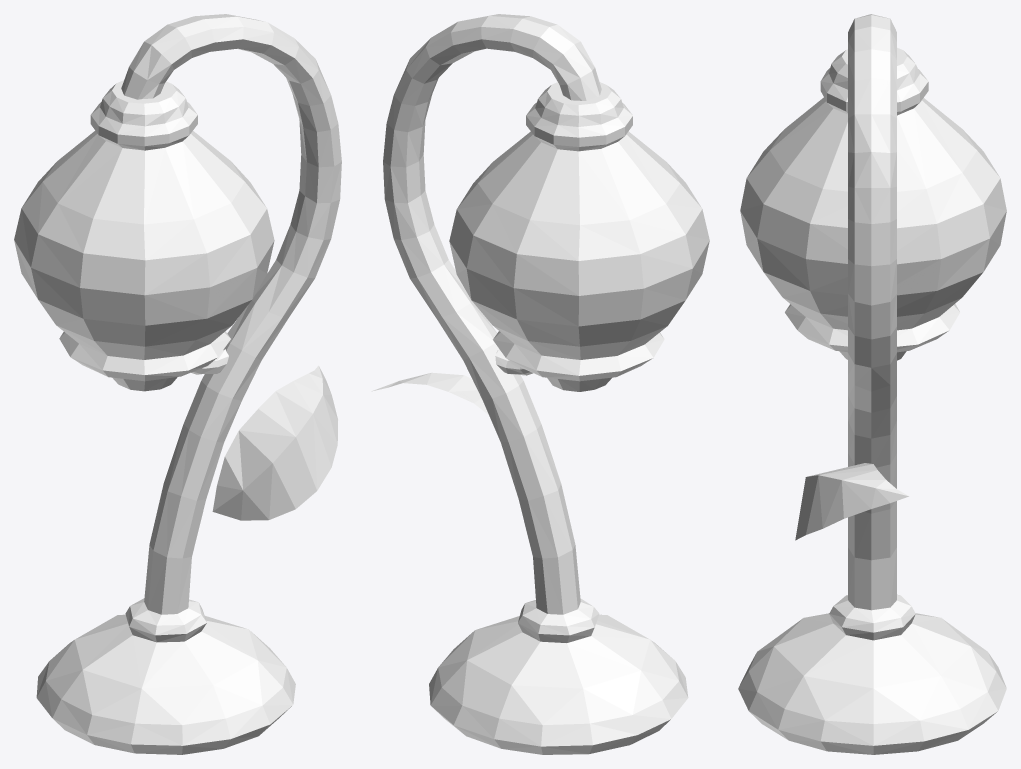
Rendered from g_f_lamp.glb.
The picture shows the model from 3 angles, left to right: view 1: azimuth 30°, elevation 25°; view 2: azimuth 150°, elevation 25°; view 3: azimuth 270°, elevation 25°; orthographic projection. The views are drawn at different scales.
Visible parts, largest first — view 1: geometry_0; view 2: geometry_0; view 3: geometry_0.
Boxes of the visible parts, box(x1,y1,x2,y2) form: geometry_0: box(14, 14, 341, 754); geometry_0: box(371, 14, 709, 754); geometry_0: box(738, 14, 1006, 754).
Size of the model in its own units: 0.0835 by 0.1772 by 0.062.
1 material, 1 textured.
